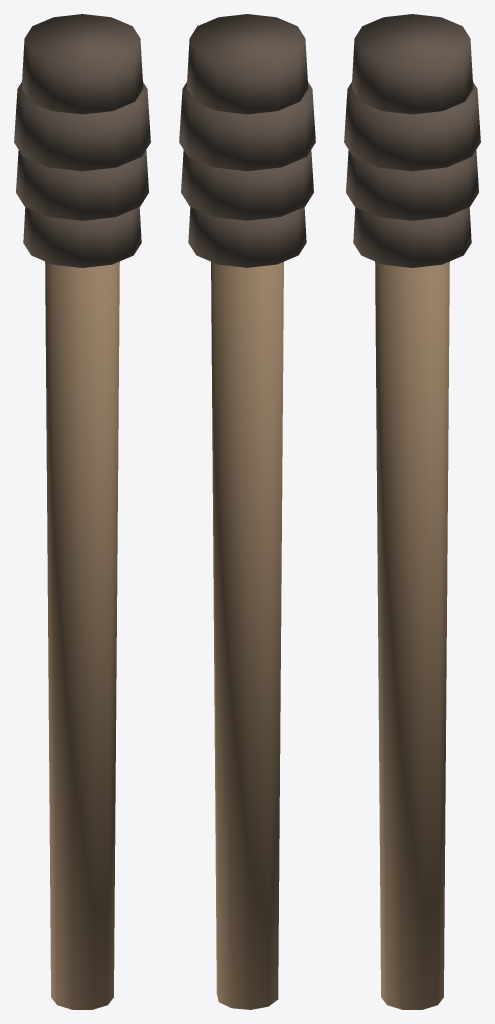
File: torch.glb
3 views of the same model, side by side, from view 1: azimuth 90°, elevation 25°; view 2: azimuth 150°, elevation 25°; view 3: azimuth 270°, elevation 25° (orthographic).
Parts seen in each view (by area): view 1: Stick; view 2: Stick; view 3: Stick.
Boxes of the visible parts, <box> form: Stick: <box>14,14,150,1009</box>; Stick: <box>179,14,315,1009</box>; Stick: <box>344,14,480,1009</box>.
Bounding box in the file's own units: 0.074 × 0.572 × 0.074.
